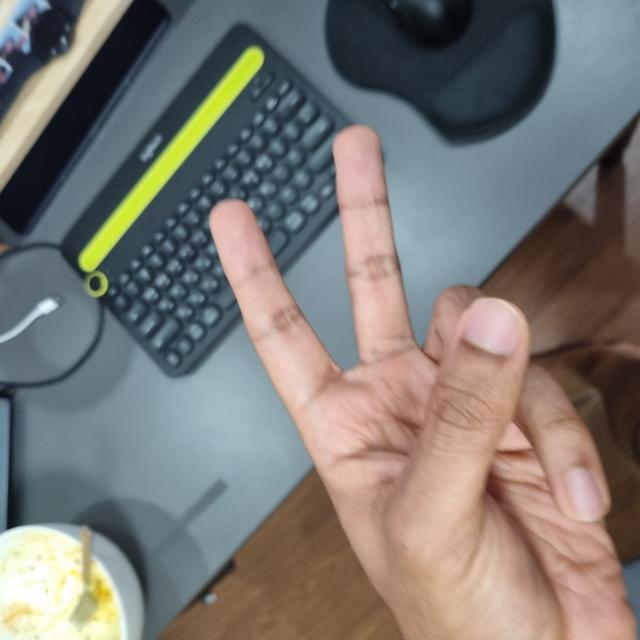Scissors: (0, 215, 515, 637)
